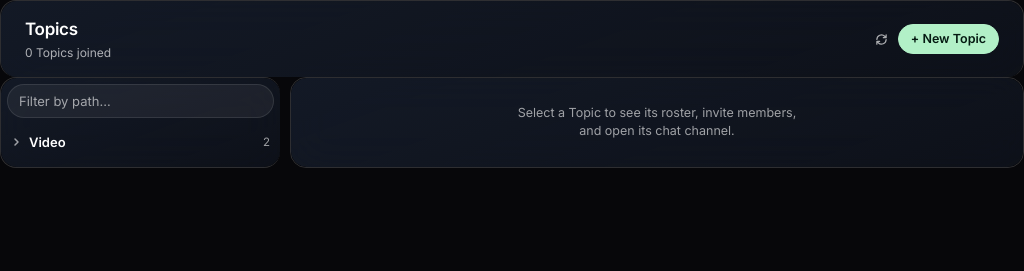
Test case: QURATOR-193 — the cold-paint hold (reveal only after the drawn ranks fold in) › a CACHED tree paints instantly — never held, even while ranking is pending
Click the button with class "root-header" at (47, 142), box [7,124,274,161]
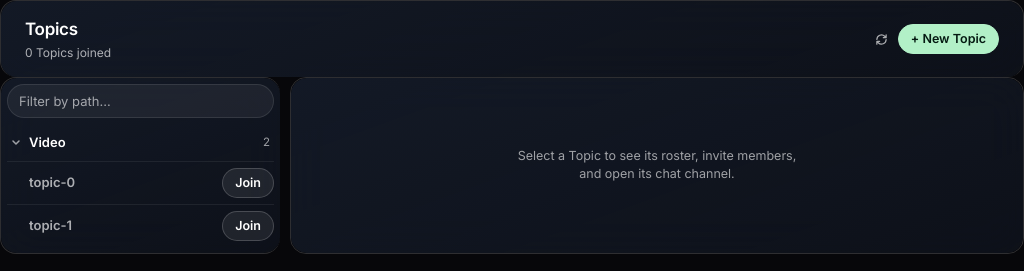
Result: the text "topic-0" is shown at [29,174,75,190]
